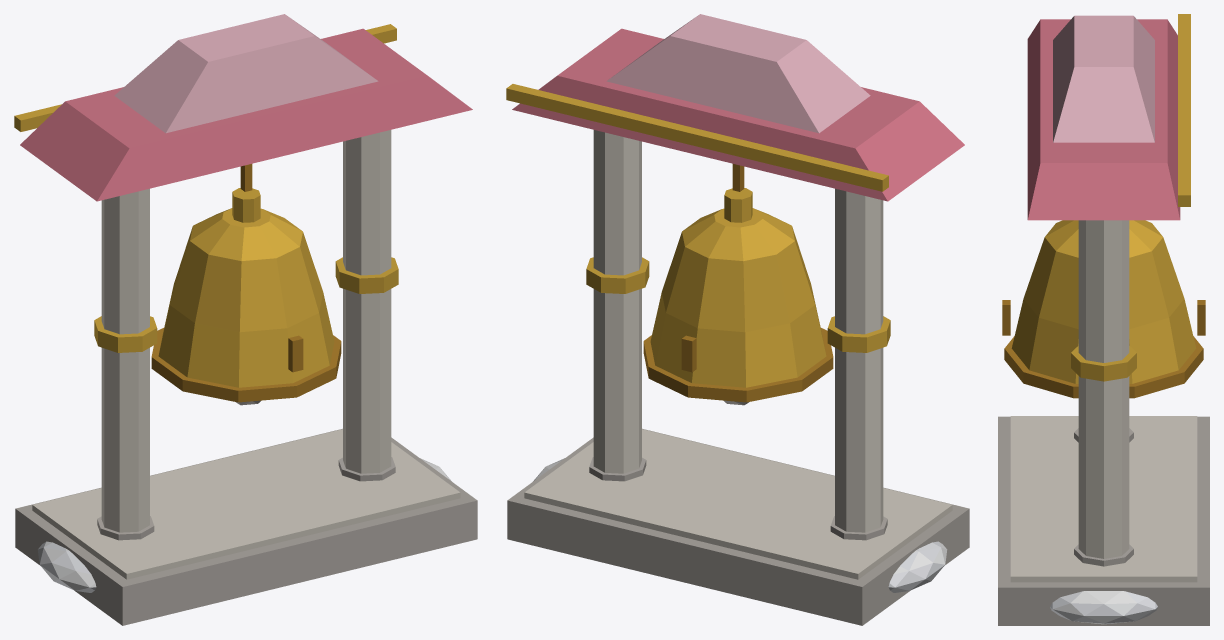
Rendered from Decor_CloudTemple_HeavenBell.fbx.
3 views of the same model, side by side, from view 1: azimuth 30°, elevation 25°; view 2: azimuth 150°, elevation 25°; view 3: azimuth 270°, elevation 25° (orthographic).
Visible parts, largest first — view 1: HeavenBell_Body; view 2: HeavenBell_Body; view 3: HeavenBell_Body.
Part boxes in pixels (left/top/right/bottom): HeavenBell_Body: left=14, top=14, right=477, bottom=625; HeavenBell_Body: left=506, top=14, right=969, bottom=625; HeavenBell_Body: left=998, top=14, right=1209, bottom=625.
Bounding box in the file's own units: 10.6 × 13 × 5.
